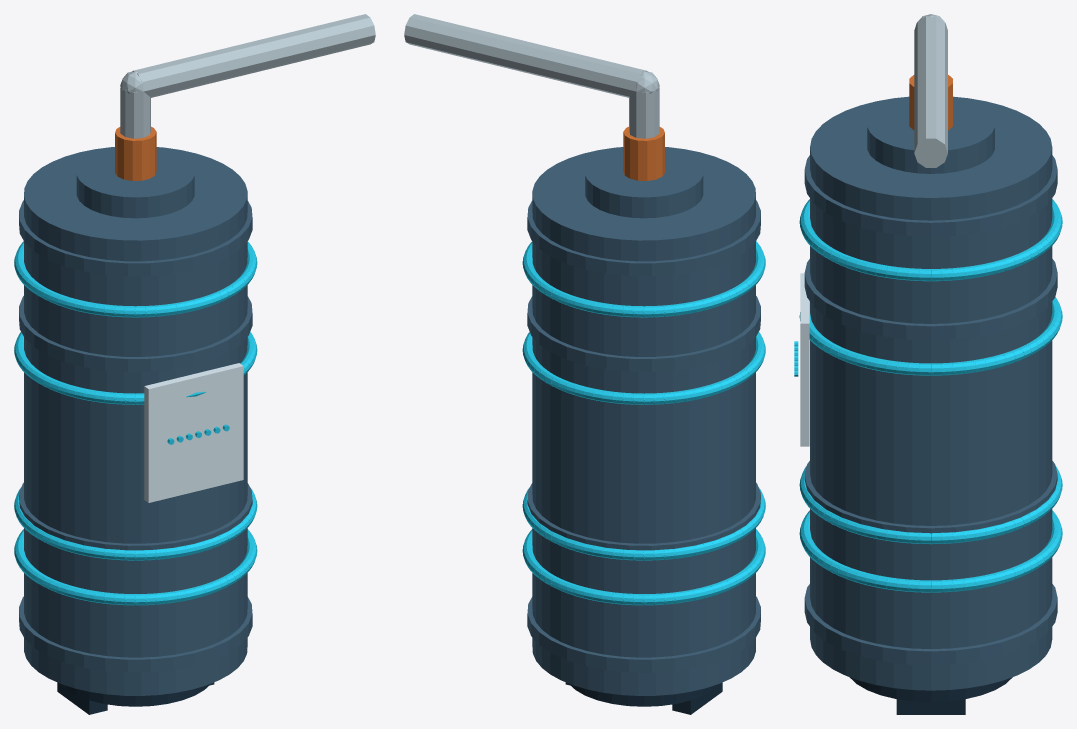
The model's file is 15_L72_InertPurgeGasSupply.fbx.
The picture shows the model from 3 angles, left to right: view 1: azimuth 30°, elevation 25°; view 2: azimuth 150°, elevation 25°; view 3: azimuth 270°, elevation 25°; orthographic projection. The views are drawn at different scales.
Parts seen in each view (by area): view 1: InertPurgeGasSupply; view 2: InertPurgeGasSupply; view 3: InertPurgeGasSupply.
Part boxes in pixels (<box>): InertPurgeGasSupply: <box>14,14,375,714</box>; InertPurgeGasSupply: <box>404,14,765,714</box>; InertPurgeGasSupply: <box>794,14,1062,714</box>.
Size of the model in its own units: 150 by 261 by 95.3.
